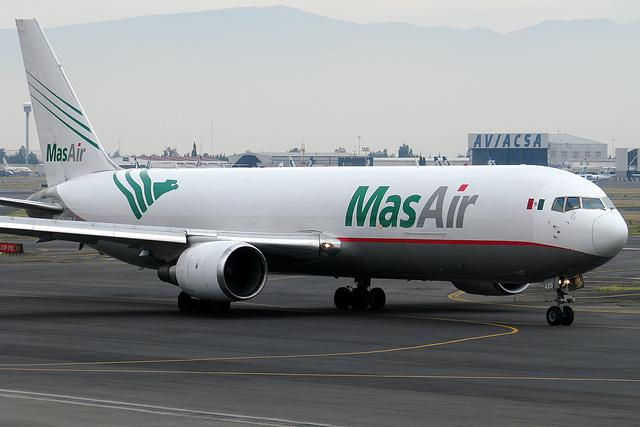airplane: (2, 15, 628, 328)
